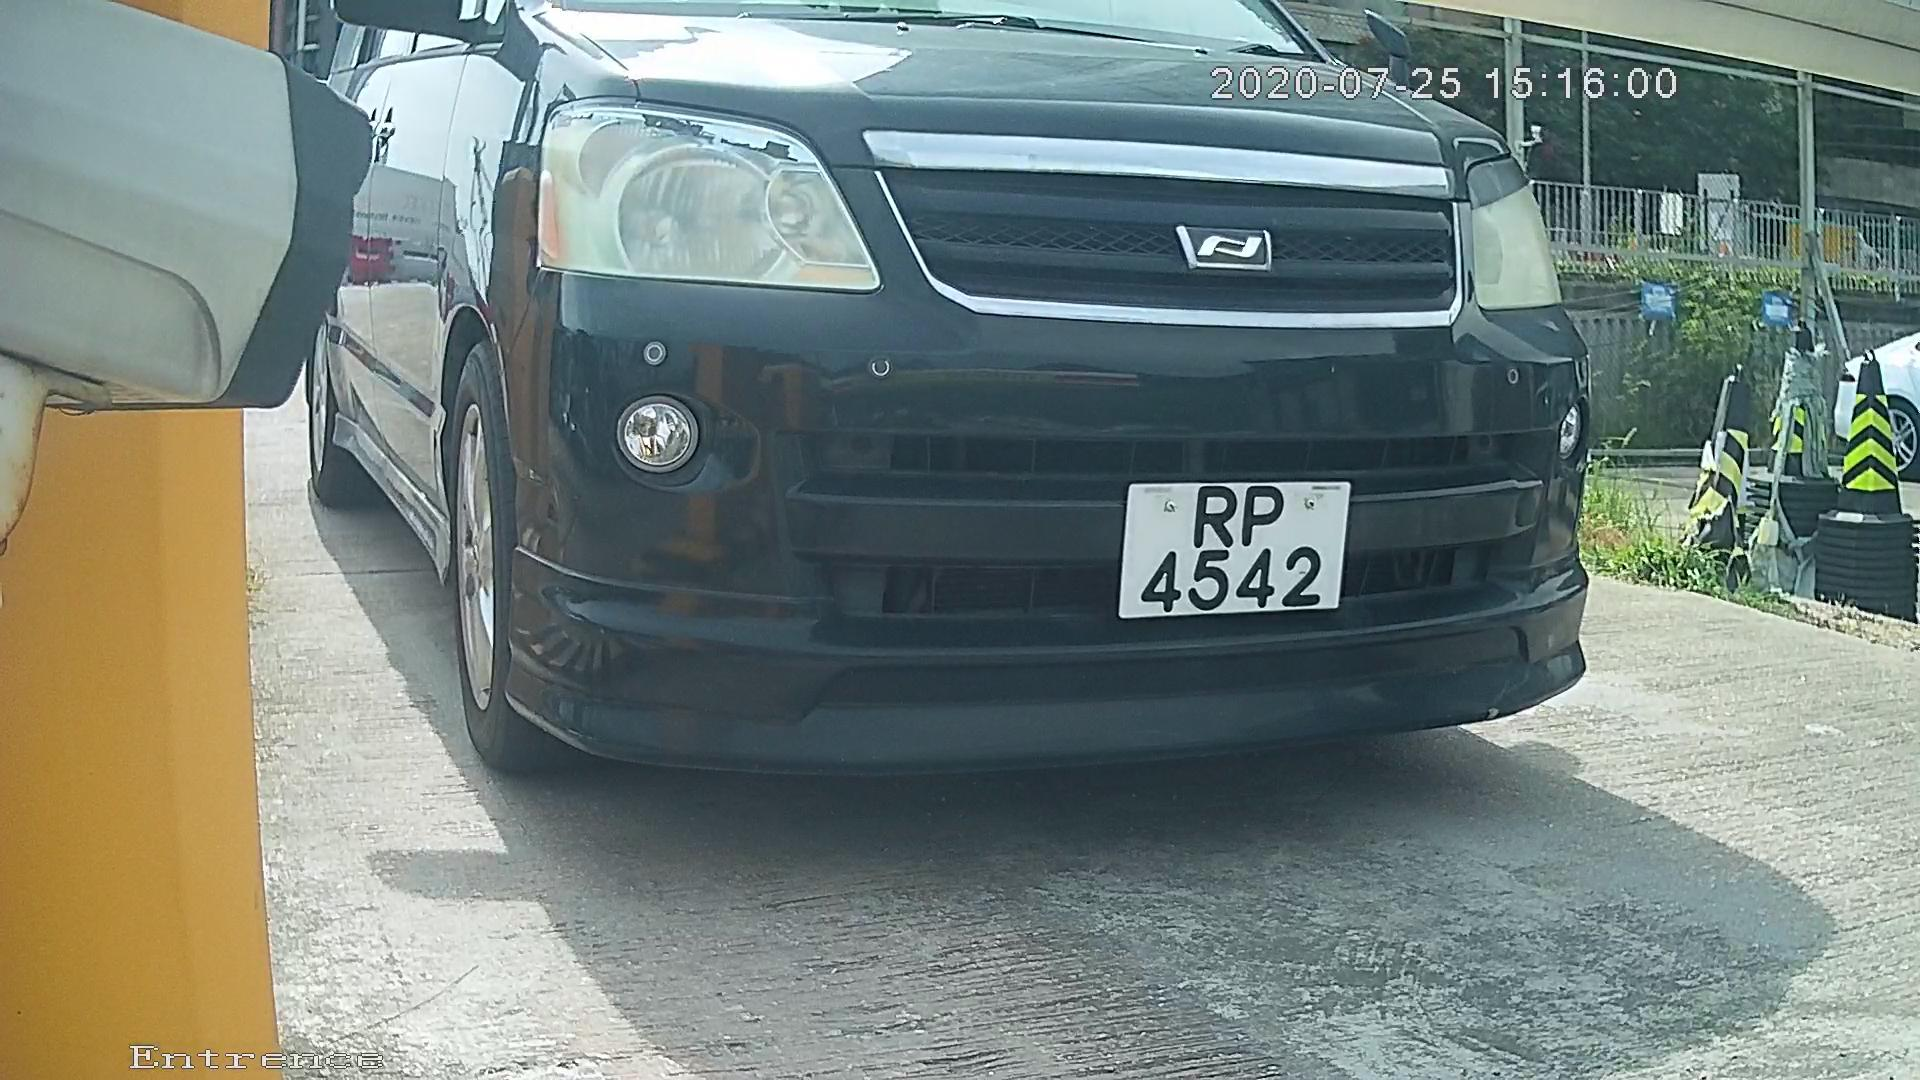License Plate: (1098, 459, 1372, 642)
